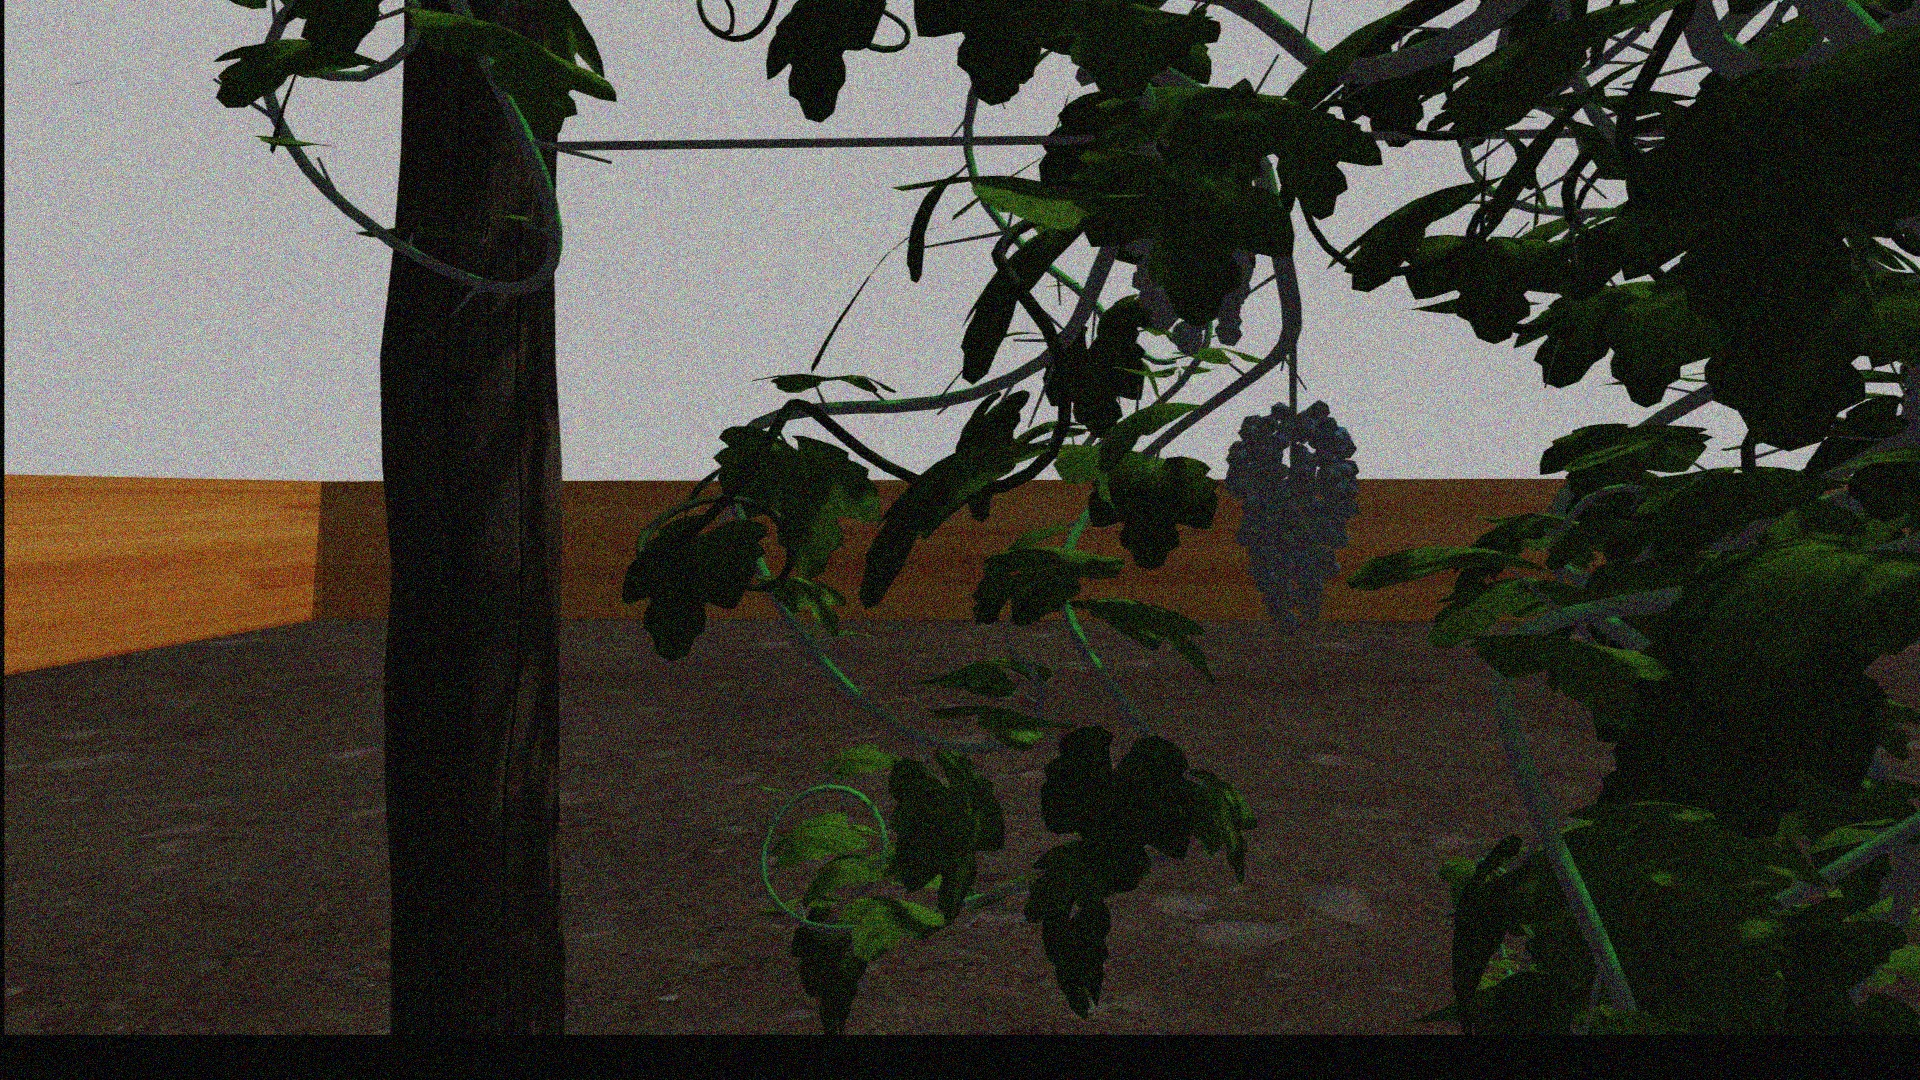grape: (1222, 400, 1364, 636)
